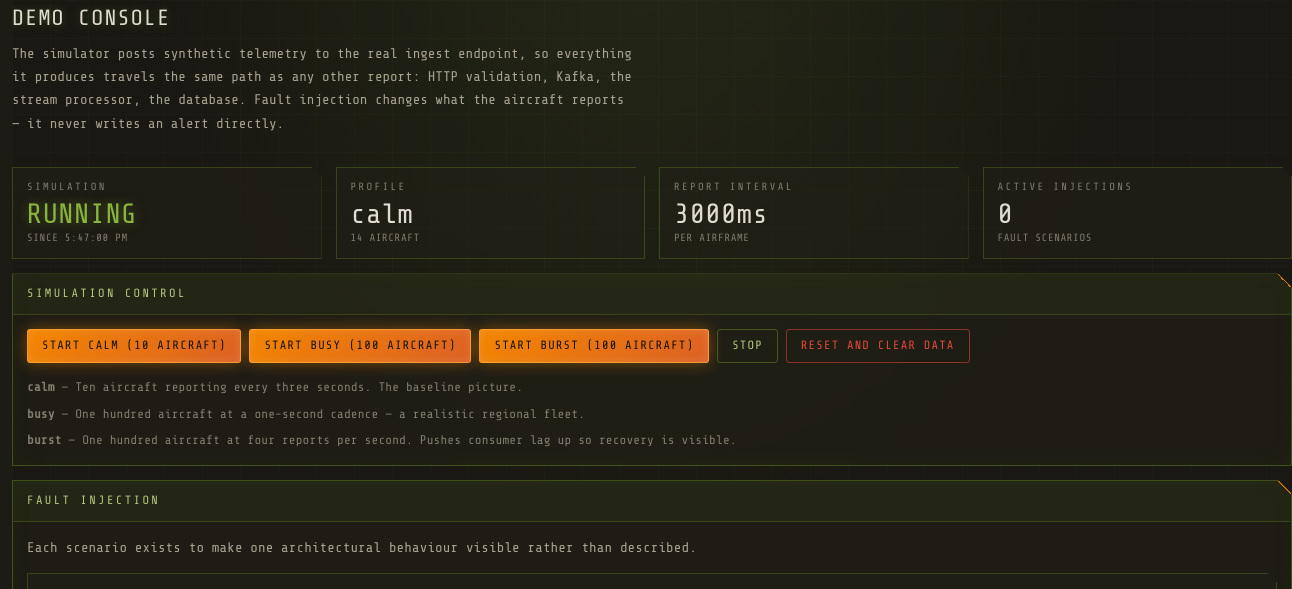
Test: with a live API › confirms an action once it has actually completed
Click the button "Stop": [748, 346] box [717,329,778,363]
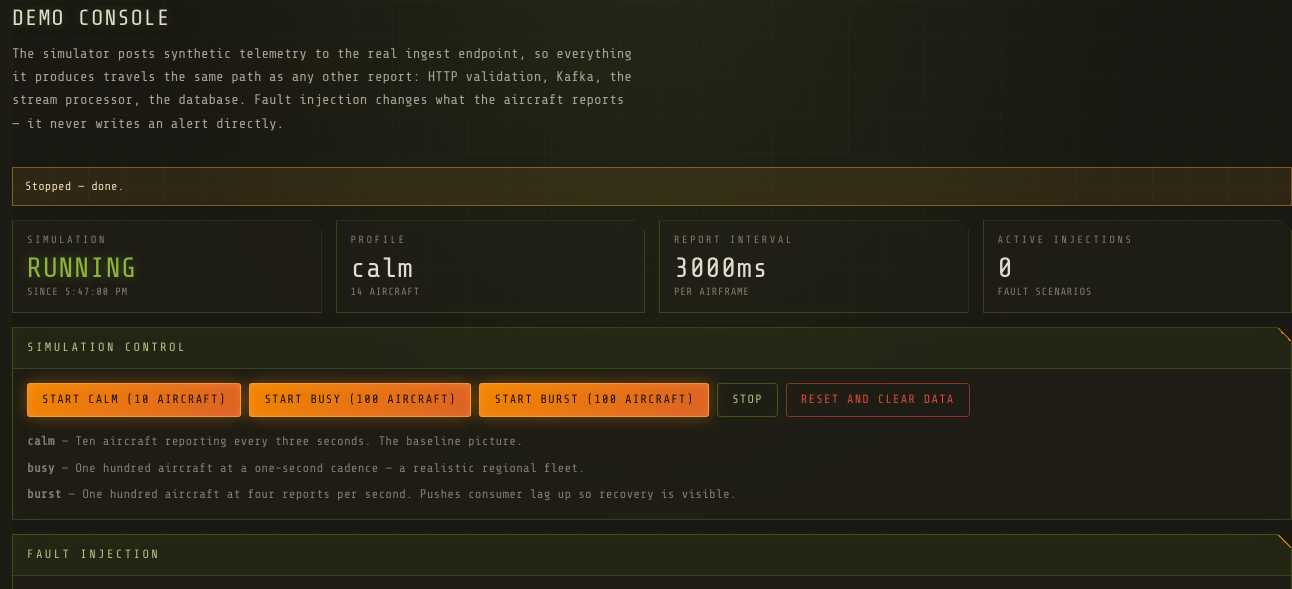
Now the text "Stopped — done." is shown, box [12,167,1291,206]
